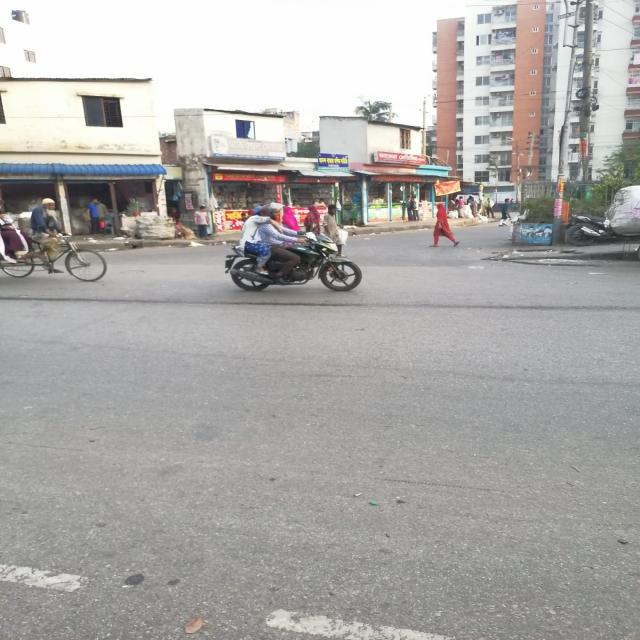person: (432, 202, 459, 247), (322, 204, 344, 257), (304, 205, 320, 233)
